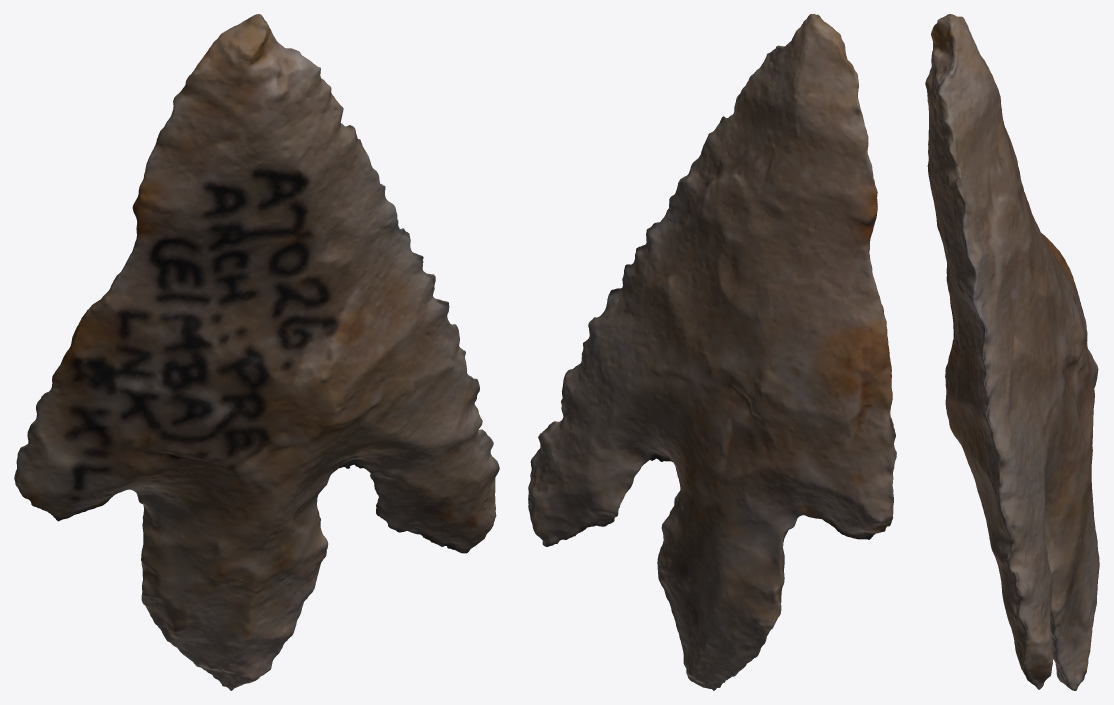
The picture shows the model from 3 angles, left to right: view 1: azimuth 30°, elevation 25°; view 2: azimuth 150°, elevation 25°; view 3: azimuth 270°, elevation 25°; orthographic projection. The views are drawn at different scales.
Parts seen in each view (by area): view 1: Full Arrowhead; view 2: Full Arrowhead; view 3: Full Arrowhead.
Boxes of the visible parts, box(x1,y1,x2,y2) form: Full Arrowhead: box(14, 14, 499, 690); Full Arrowhead: box(528, 14, 896, 690); Full Arrowhead: box(925, 14, 1099, 690).
Bounding box in the file's own units: 0.2036 × 0.3189 × 0.0773.
